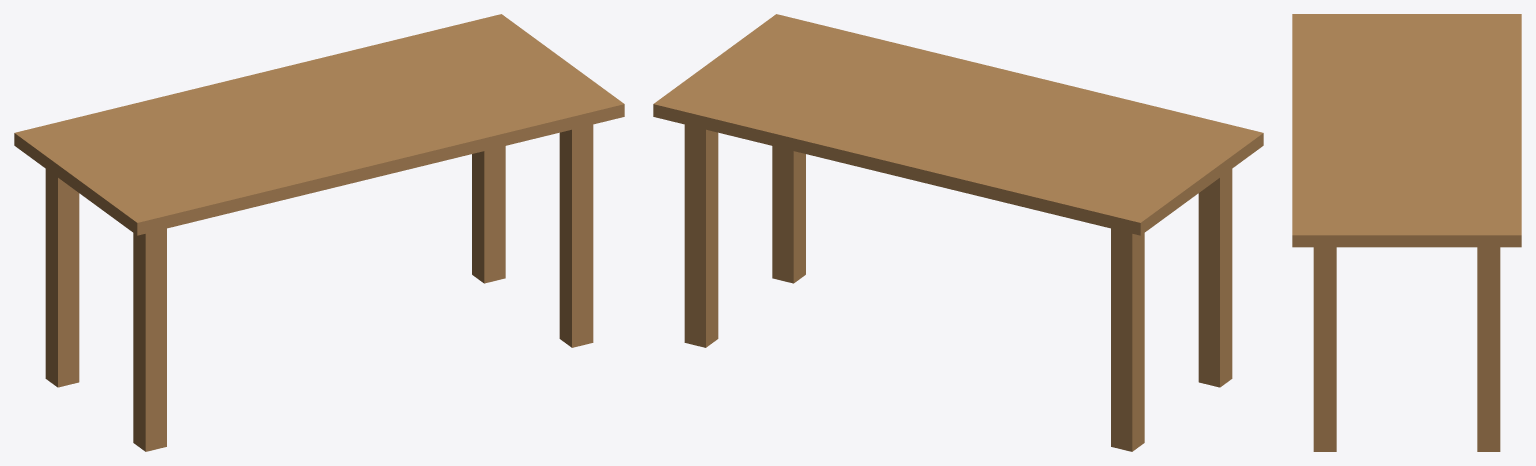
3 renders of one model, left to right at view 1: azimuth 30°, elevation 25°; view 2: azimuth 150°, elevation 25°; view 3: azimuth 270°, elevation 25°, orthographic. The views are drawn at different scales.
Visible parts, largest first — view 1: mesa_mike; view 2: mesa_mike; view 3: mesa_mike.
Boxes of the visible parts, x1,y1,x2,y2 form: mesa_mike: [14, 14, 624, 451]; mesa_mike: [653, 14, 1263, 451]; mesa_mike: [1292, 14, 1521, 451].
Bounding box in the file's own units: 1.6 × 0.7 × 0.76.
